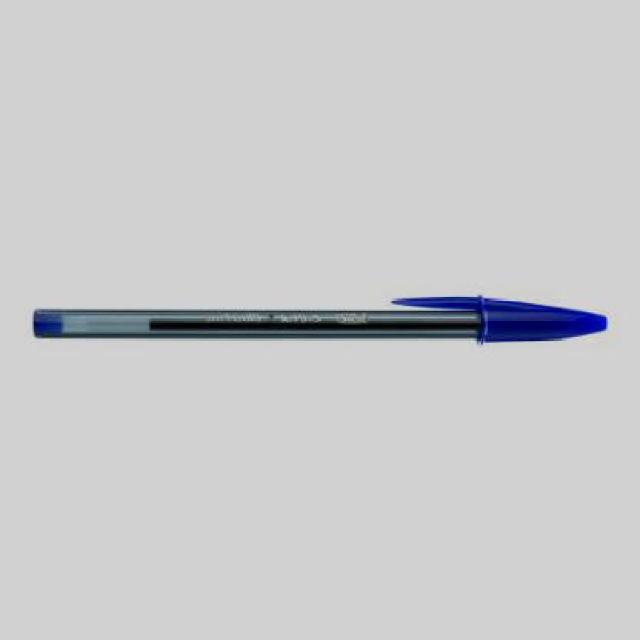pen: (39, 299, 607, 339)
